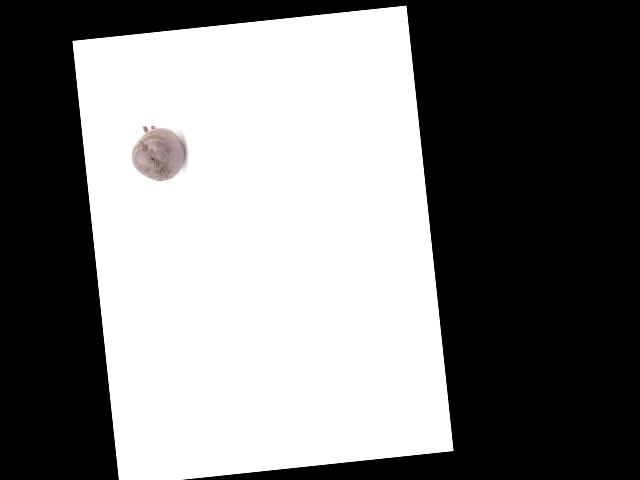beet: (128, 123, 188, 184)
